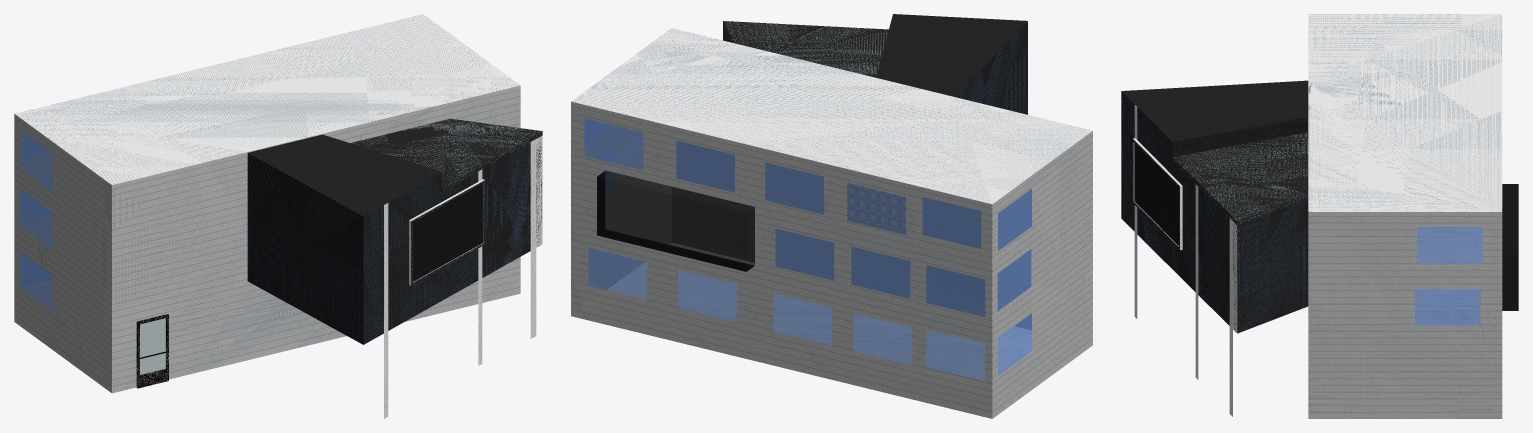
File: Carrigton building.dae
3 views of the same model, side by side, from view 1: azimuth 30°, elevation 25°; view 2: azimuth 150°, elevation 25°; view 3: azimuth 270°, elevation 25° (orthographic). The views are drawn at different scales.
Parts seen in each view (by area): view 1: SketchUp (×15), Component_2 (×2), group_0, group_1; view 2: SketchUp (×23); view 3: SketchUp (×16), Component_2 (×3).
Part boxes in pixels (x1,y1,x2,y2): SketchUp (×15): (14, 14, 542, 418); Component_2 (×2): (411, 180, 485, 285); group_0: (140, 318, 165, 374); group_1: (136, 314, 168, 388); SketchUp (×23): (571, 14, 1092, 418); SketchUp (×16): (1121, 14, 1518, 418); Component_2 (×3): (1132, 138, 1182, 250).
Bounding box in the file's own units: 2859 × 2423 × 1453.
Materials: 14 (4 with a texture image).
